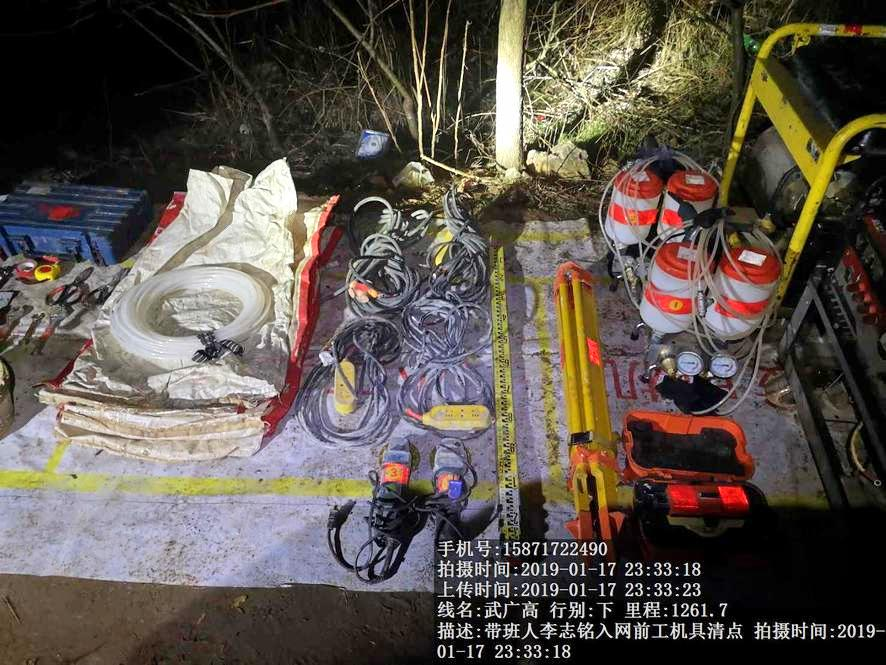BZD: (44, 175, 337, 450)
DJ: (745, 20, 882, 220)
DMJ: (351, 437, 418, 531), (421, 427, 479, 532)
DX: (304, 312, 404, 451), (426, 186, 490, 297)
SG: (112, 266, 271, 358)
